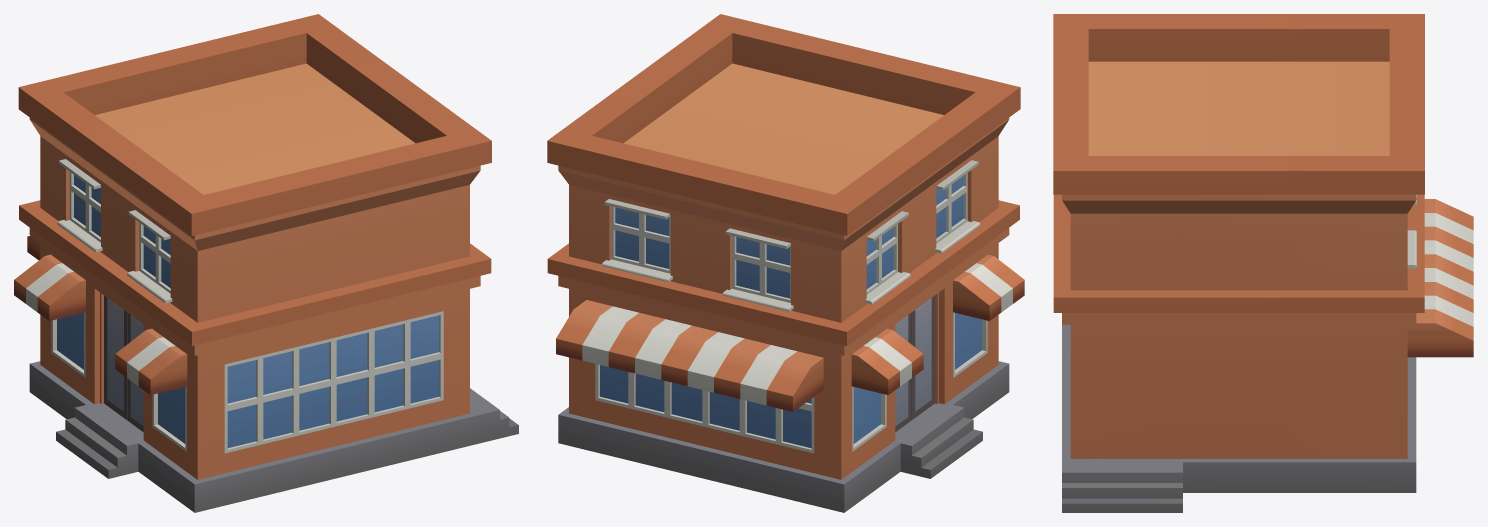
File: Shop 3.fbx
The picture shows the model from 3 angles, left to right: view 1: azimuth 30°, elevation 25°; view 2: azimuth 150°, elevation 25°; view 3: azimuth 270°, elevation 25°; orthographic projection. The views are drawn at different scales.
Parts seen in each view (by area): view 1: Shop3; view 2: Shop3; view 3: Shop3.
Boxes of the visible parts, box(x1,y1,x2,y2) form: Shop3: box(14, 14, 518, 512); Shop3: box(547, 14, 1024, 512); Shop3: box(1053, 14, 1473, 512).
Size of the model in its own units: 286 by 234 by 274.
